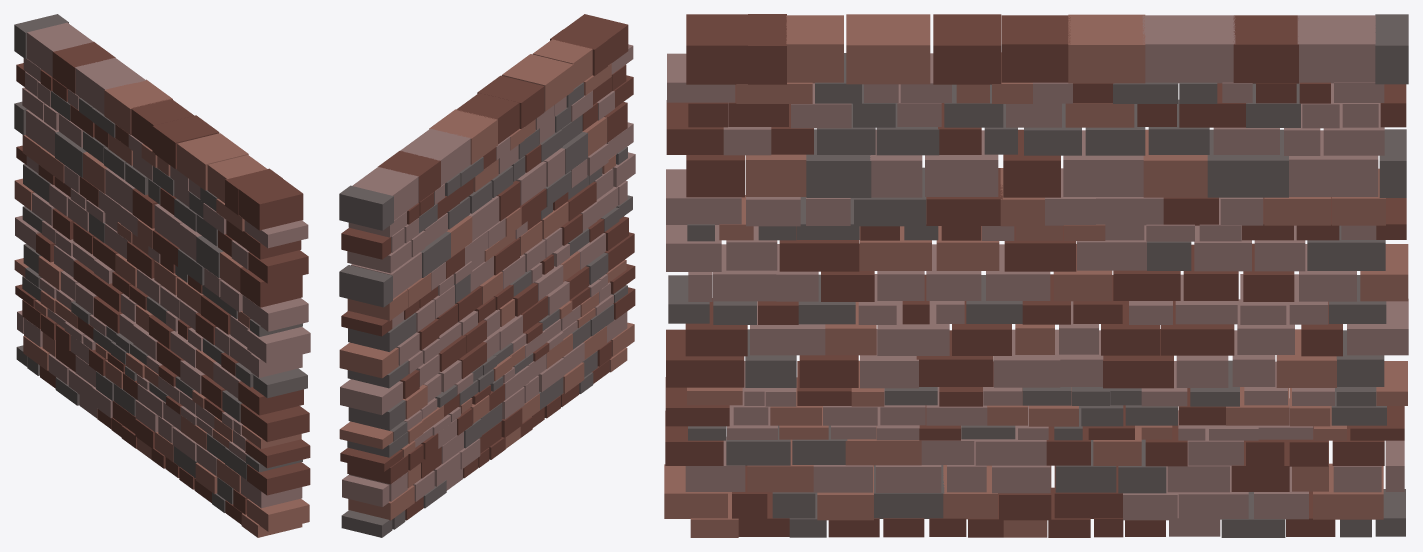
File: BrickWall.fbx
3 views of the same model, side by side, from view 1: azimuth 30°, elevation 25°; view 2: azimuth 150°, elevation 25°; view 3: azimuth 270°, elevation 25° (orthographic). The views are drawn at different scales.
Parts seen in each view (by area): view 1: BrickWallTesselate; view 2: BrickWallTesselate; view 3: BrickWallTesselate.
Boxes of the visible parts, bbox=[...] form: BrickWallTesselate: bbox=[14, 14, 310, 537]; BrickWallTesselate: bbox=[339, 14, 635, 537]; BrickWallTesselate: bbox=[664, 14, 1408, 537].
Size of the model in its own units: 32.73 by 235 by 322.
